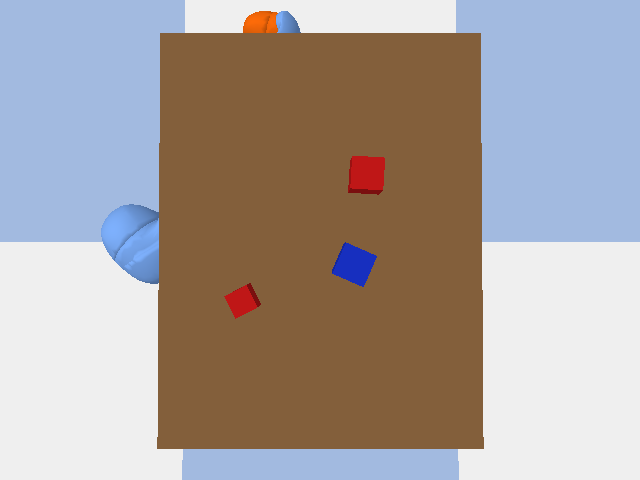blue_obj: (332, 242, 376, 286)
red_obj: (348, 156, 384, 194), (224, 283, 260, 318)
